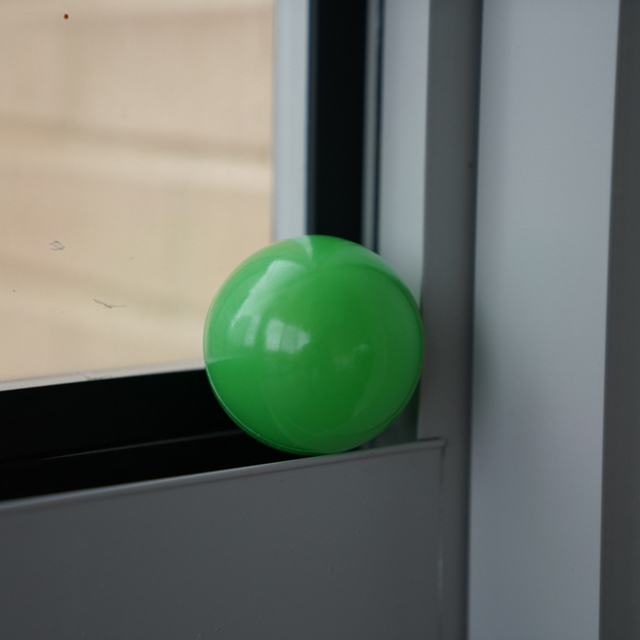Ball: (200, 235, 426, 454)
